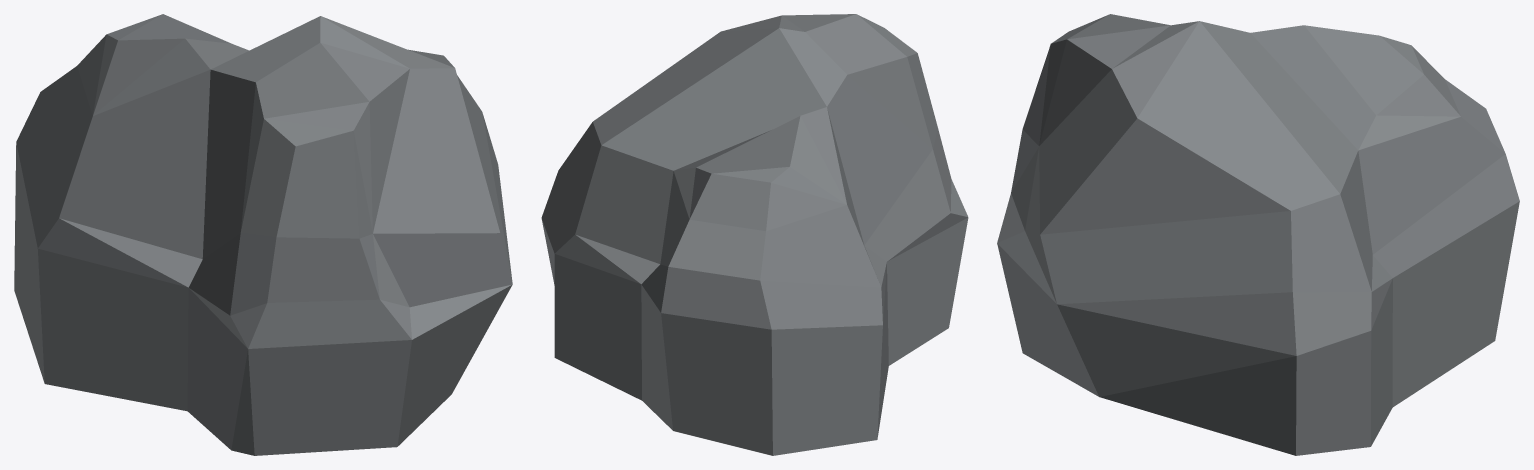
Rendered from Rock_Round_l_02.fbx.
3 renders of one model, left to right at view 1: azimuth 30°, elevation 25°; view 2: azimuth 150°, elevation 25°; view 3: azimuth 270°, elevation 25°, orthographic. The views are drawn at different scales.
Parts seen in each view (by area): view 1: Rock_Round_l_02; view 2: Rock_Round_l_02; view 3: Rock_Round_l_02.
Part boxes in pixels (x1,y1,x2,y2): Rock_Round_l_02: (14,14,512,455); Rock_Round_l_02: (541,14,968,455); Rock_Round_l_02: (997,14,1519,455).
Size of the model in its own units: 2.14 by 1.8 by 2.38.
